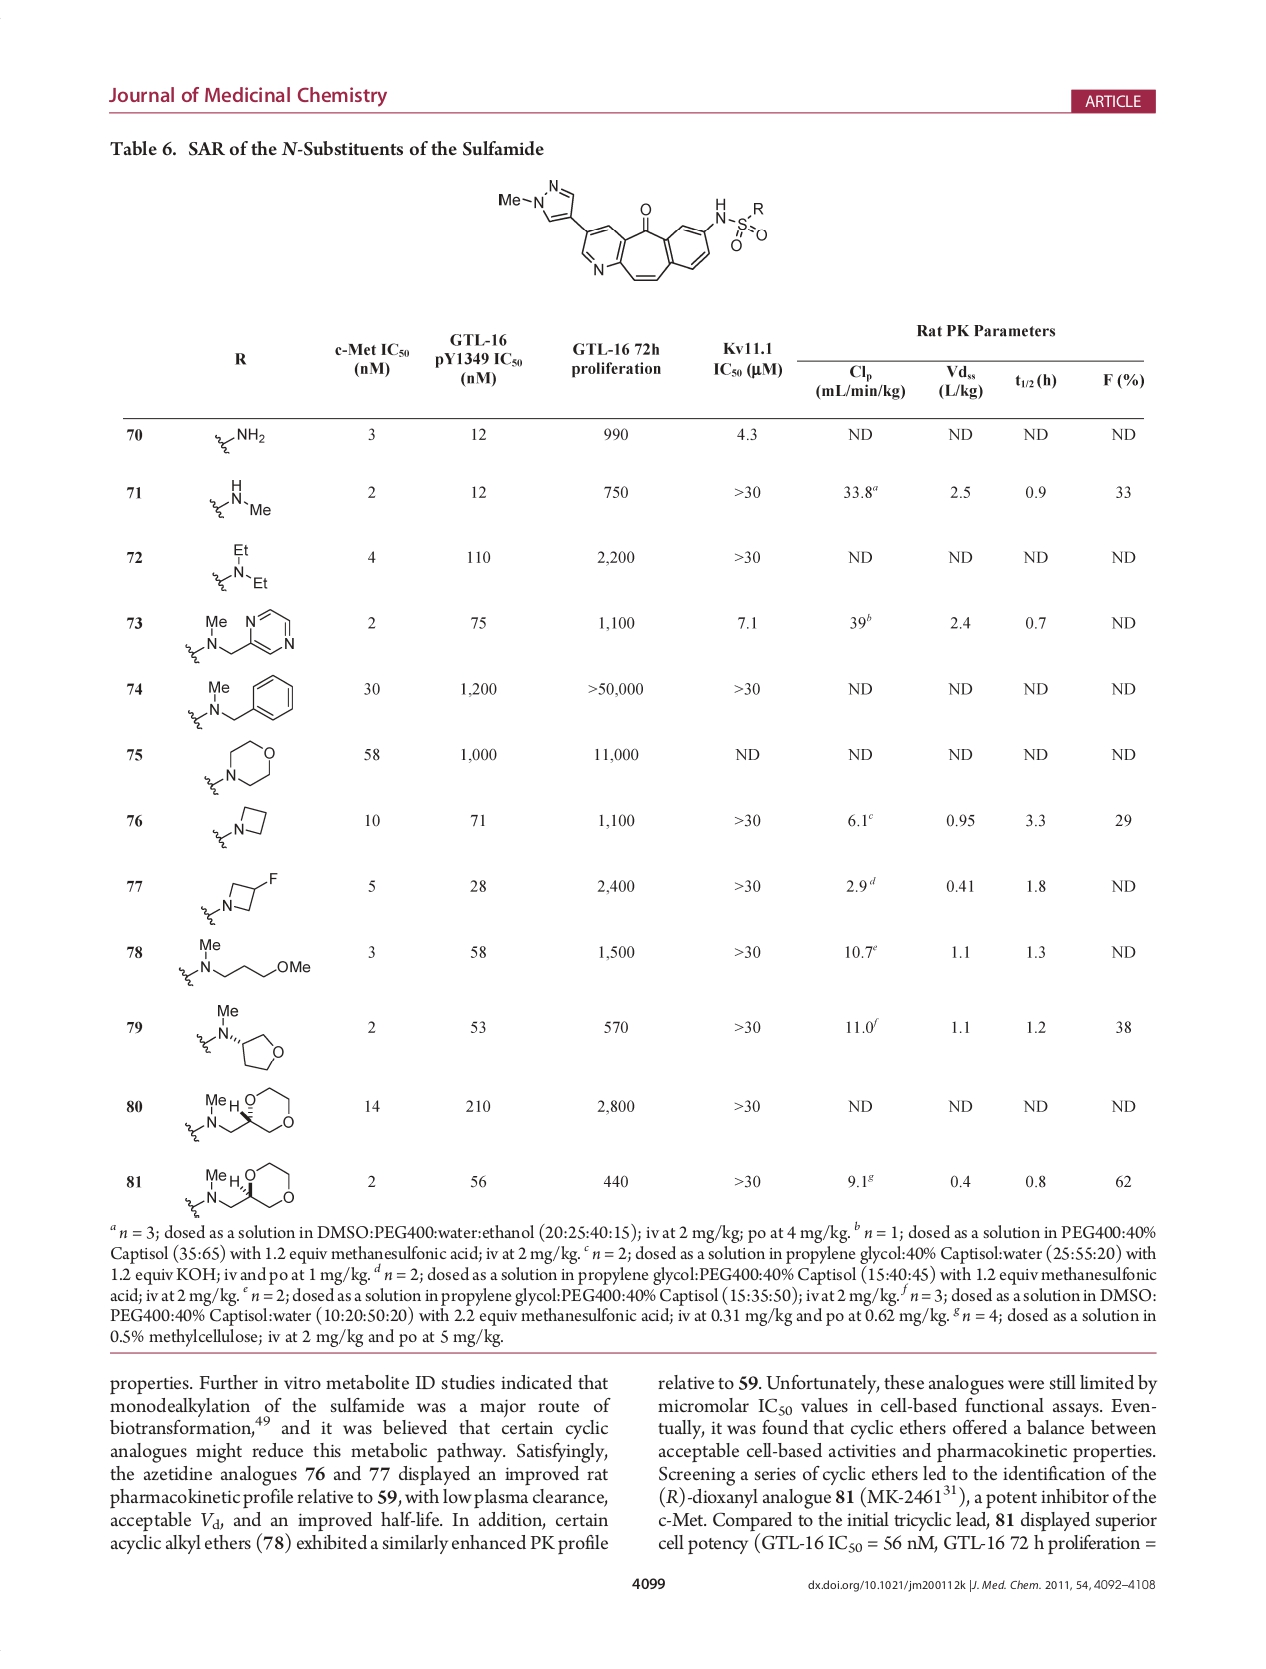exist_molecular: (491, 174, 771, 287), (172, 935, 311, 993), (185, 666, 297, 733), (180, 1160, 301, 1221), (182, 605, 301, 668), (190, 997, 286, 1073), (180, 1084, 293, 1142), (194, 868, 281, 927), (198, 735, 278, 797), (209, 539, 269, 597), (209, 473, 273, 527), (202, 803, 270, 852), (211, 426, 266, 460)
